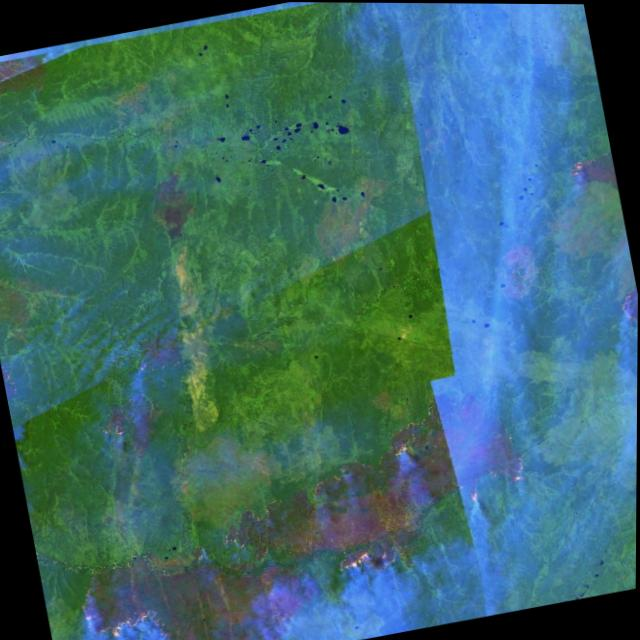fire: (61, 527, 271, 640), (285, 410, 431, 496), (333, 533, 440, 581), (459, 449, 550, 501), (553, 149, 608, 185)
